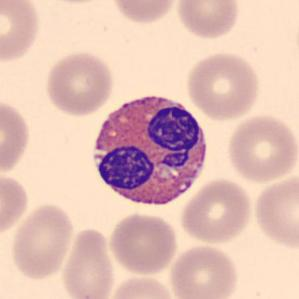Eosinophil: (83, 85, 214, 216)
RBC: (183, 49, 262, 121), (224, 111, 297, 185), (178, 176, 255, 246), (8, 201, 75, 281), (42, 50, 116, 117), (106, 211, 180, 276), (58, 226, 116, 299), (167, 243, 241, 299), (251, 171, 299, 251), (0, 0, 43, 65), (174, 0, 242, 40), (0, 97, 32, 179), (0, 170, 31, 239), (106, 272, 177, 299), (109, 0, 180, 26), (38, 0, 113, 6)
